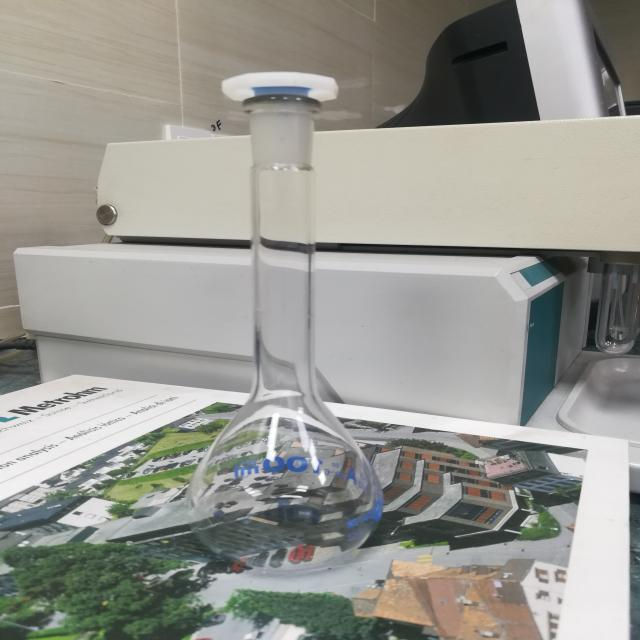Volumetric_Flask: (145, 37, 428, 594)
